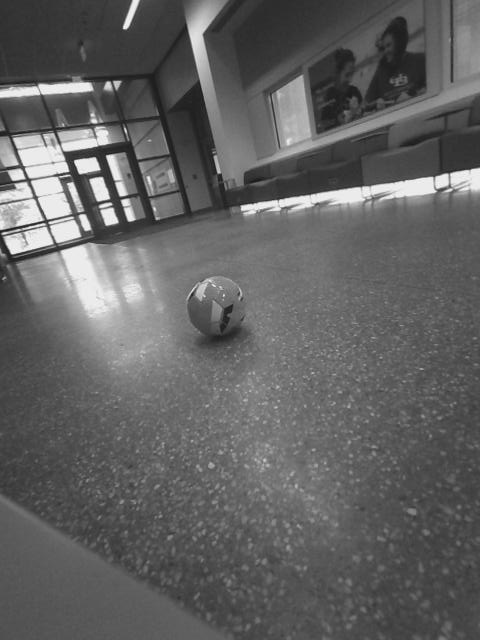ball: (177, 271, 259, 344)
